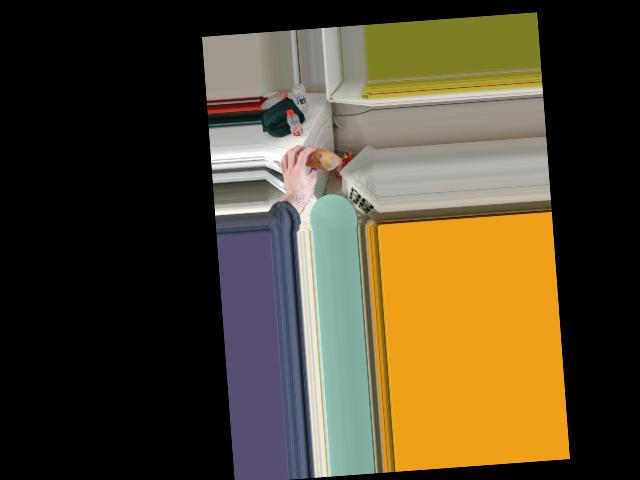sweet_potato: (290, 147, 340, 172)
